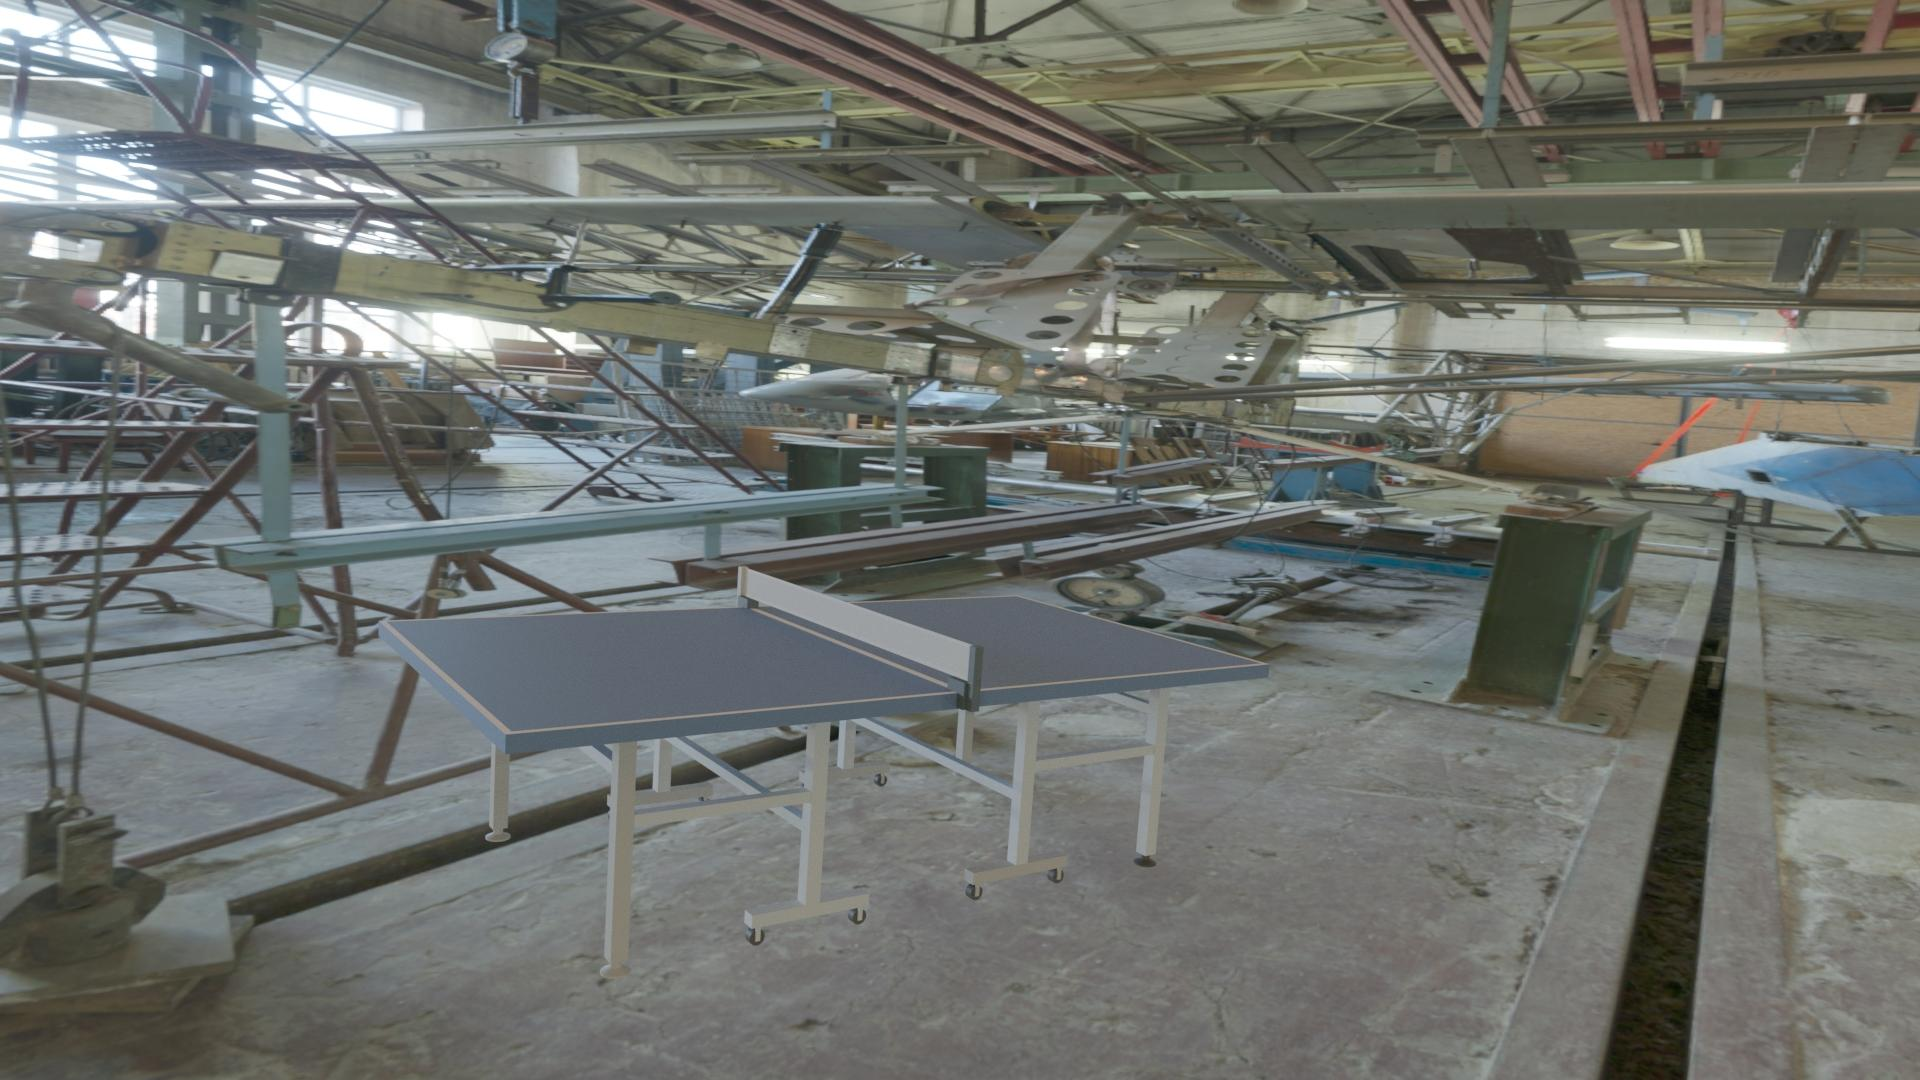table: (386, 596, 1262, 732)
